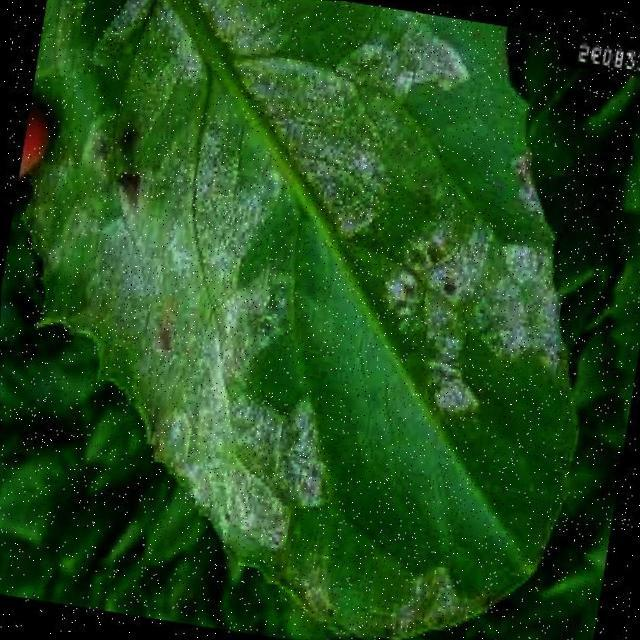Downy_Mildew: (24, 0, 567, 603)
